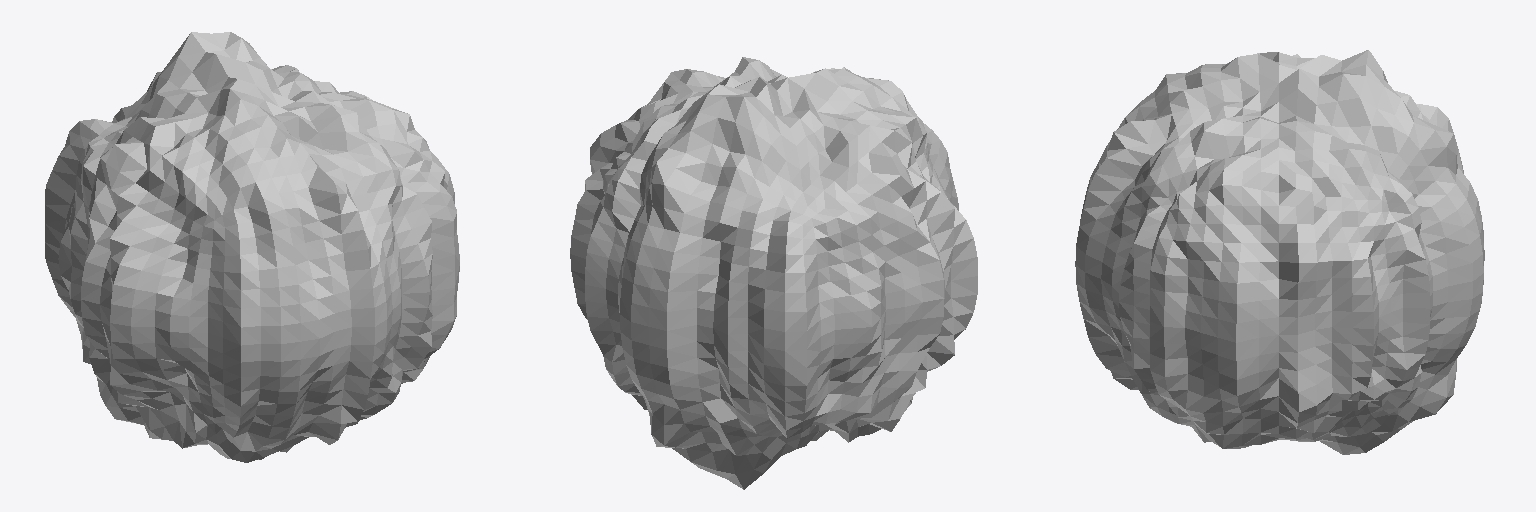
File: asteroid180.obj
The picture shows the model from 3 angles: view 1: azimuth 30°, elevation 25°; view 2: azimuth 150°, elevation 25°; view 3: azimuth 270°, elevation 25°; orthographic projection.
Visible parts, largest first — view 1: Cube_Cube.002; view 2: Cube_Cube.002; view 3: Cube_Cube.002.
Part boxes in pixels (bbox=[...]): Cube_Cube.002: bbox=[45, 32, 459, 462]; Cube_Cube.002: bbox=[570, 57, 977, 489]; Cube_Cube.002: bbox=[1075, 50, 1484, 454].
Size of the model in its own units: 1.79 by 1.89 by 1.78.